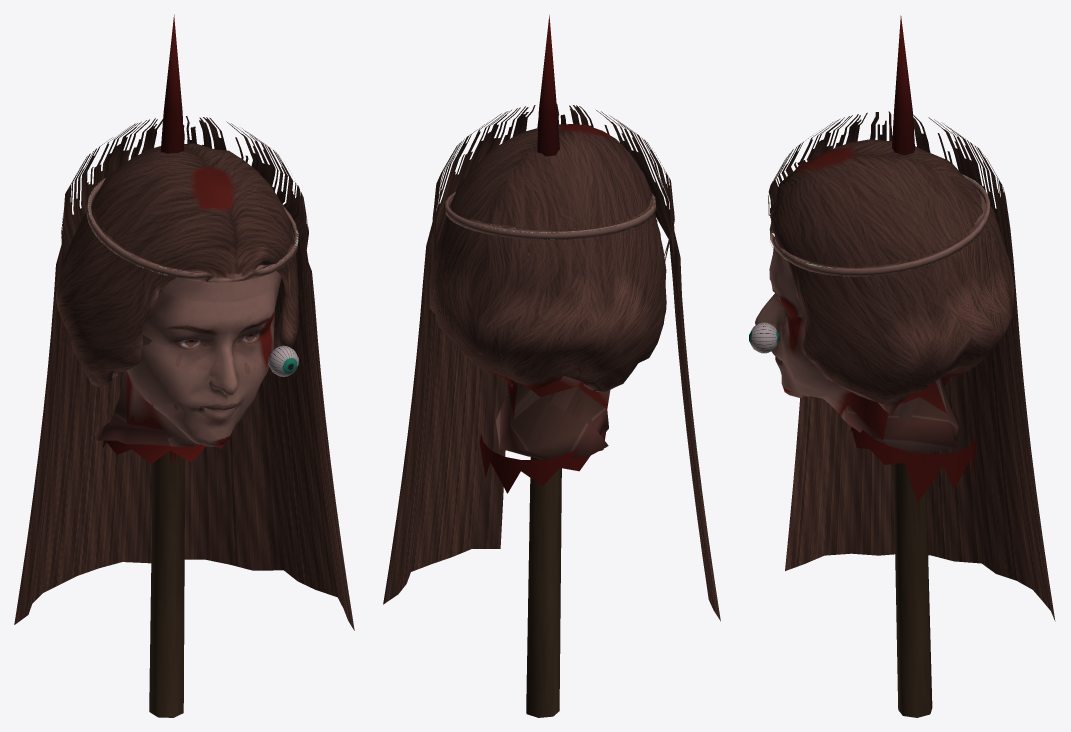
File: mm6_deco_corpse10.glb
3 renders of one model, left to right at view 1: azimuth 30°, elevation 25°; view 2: azimuth 150°, elevation 25°; view 3: azimuth 270°, elevation 25°, orthographic.
Visible parts, largest first — view 1: Corpse10; view 2: Corpse10; view 3: Corpse10.
Part boxes in pixels (x1,y1,x2,y2): Corpse10: (14,14,354,717); Corpse10: (383,15,720,717); Corpse10: (749,15,1055,717).
Size of the model in its own units: 0.2372 by 0.5458 by 0.2184.
Materials: 5 (5 with a texture image).
